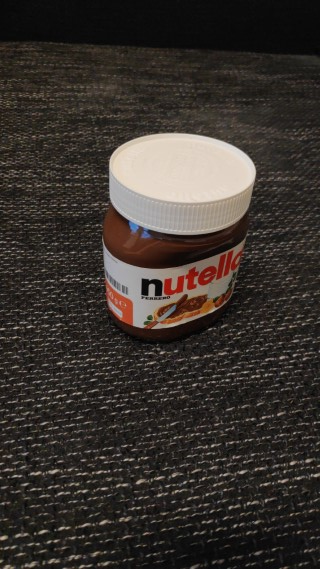nutella: (99, 130, 257, 347)
